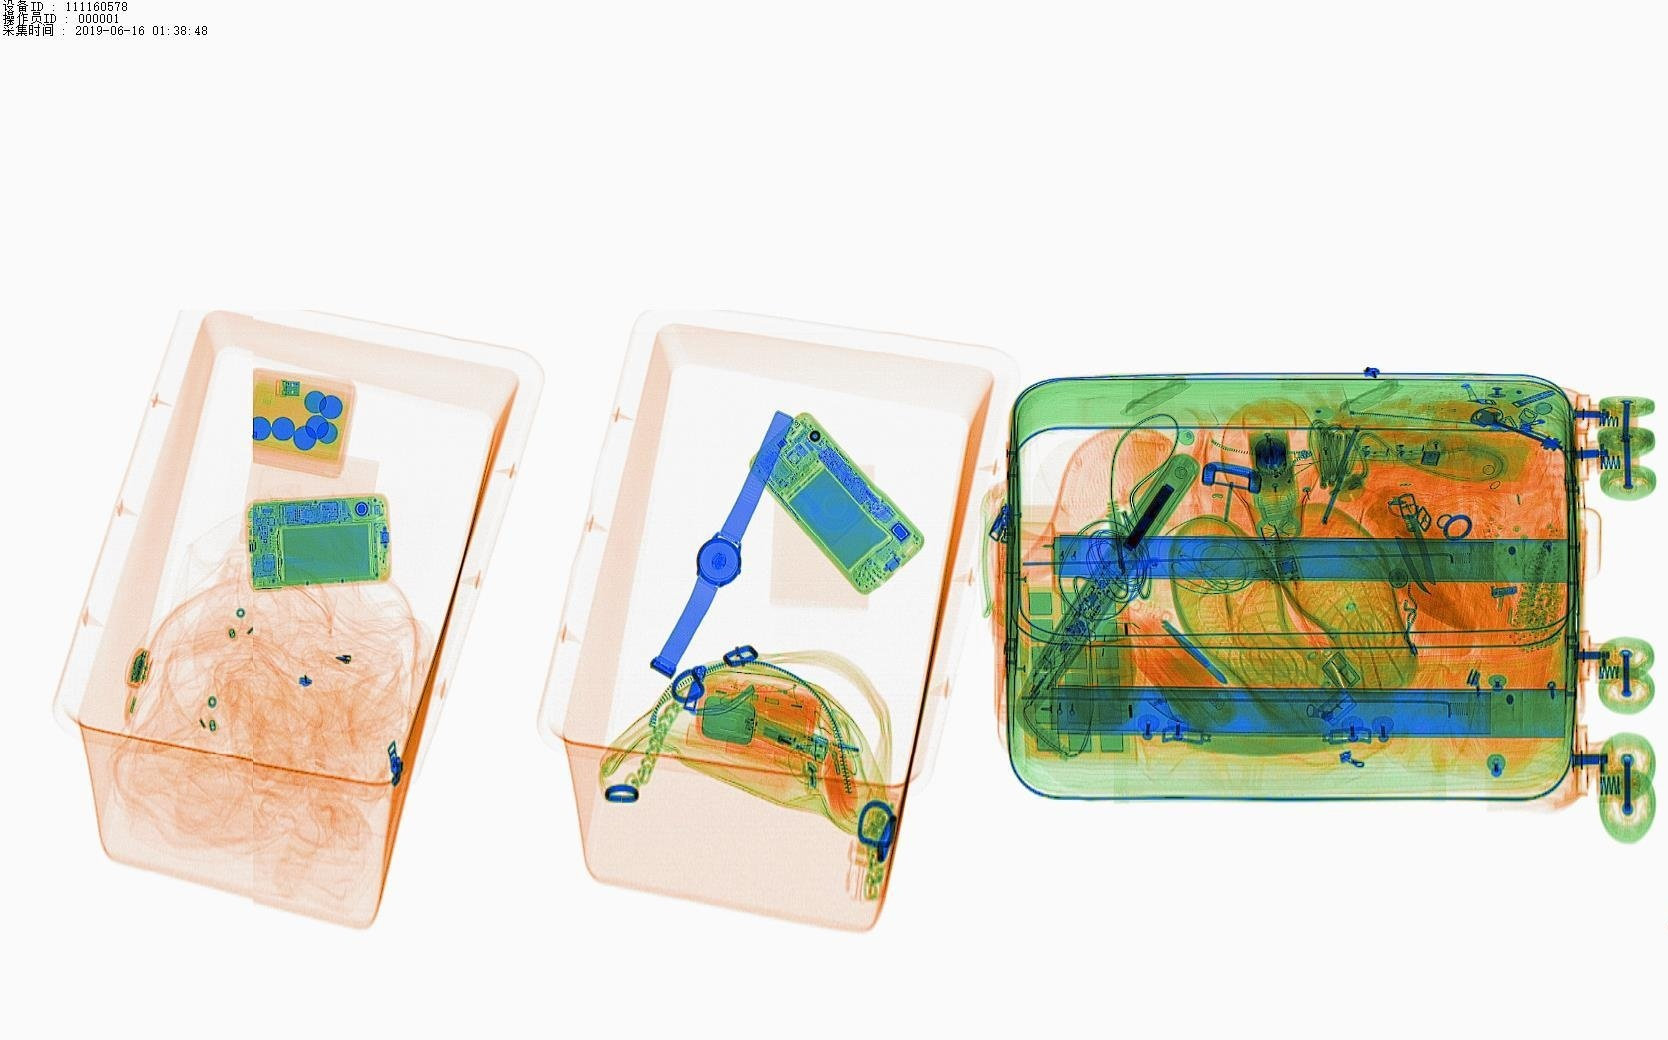NonmetallicFire: (747, 711, 850, 776)
